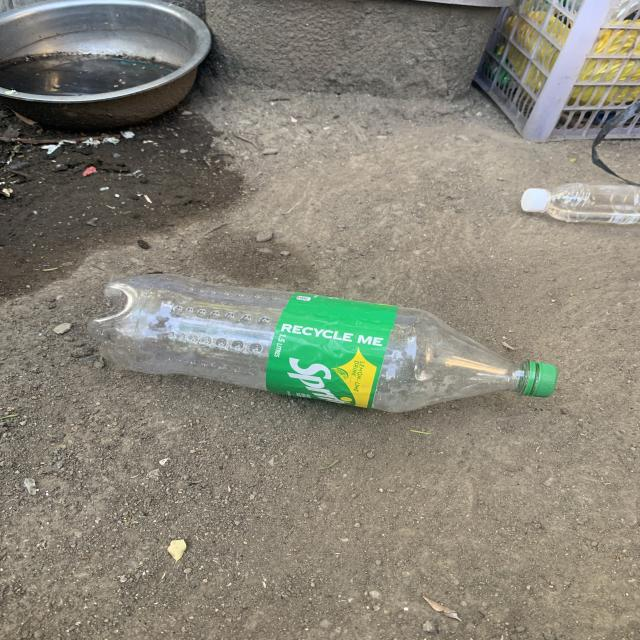Bottle: (88, 274, 557, 412)
